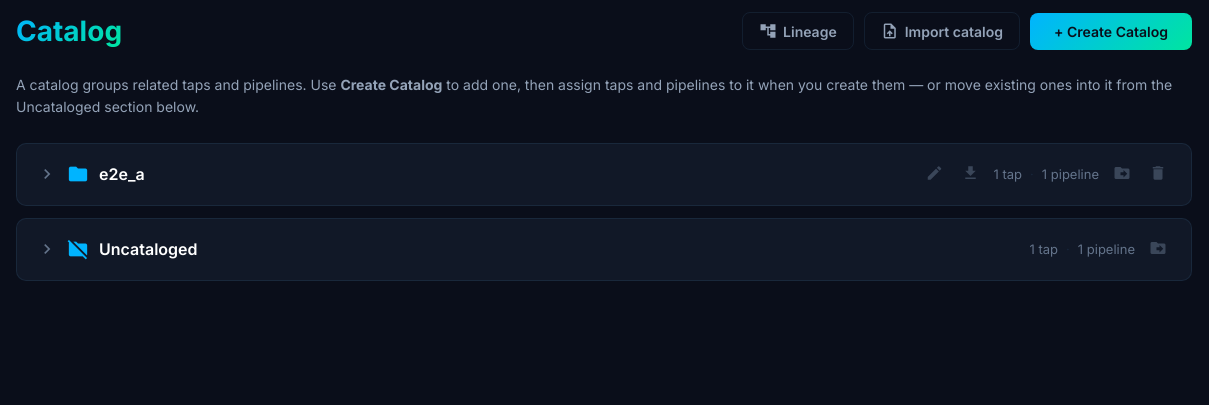
Test: DataCatalogComponent — catalog rename and delete › a 207 from rename renders each failed item with its error and reloads the list
The image size is (1209, 405).
Expected: the element with class "catalog-card" showing "e2e_a 1 tap · 1 pipeline" is shown, top-left (16, 143), bottom-right (1192, 206)
Click the button with class "rename-catalog-btn": [935, 174] box top-left (922, 160), bottom-right (948, 189)
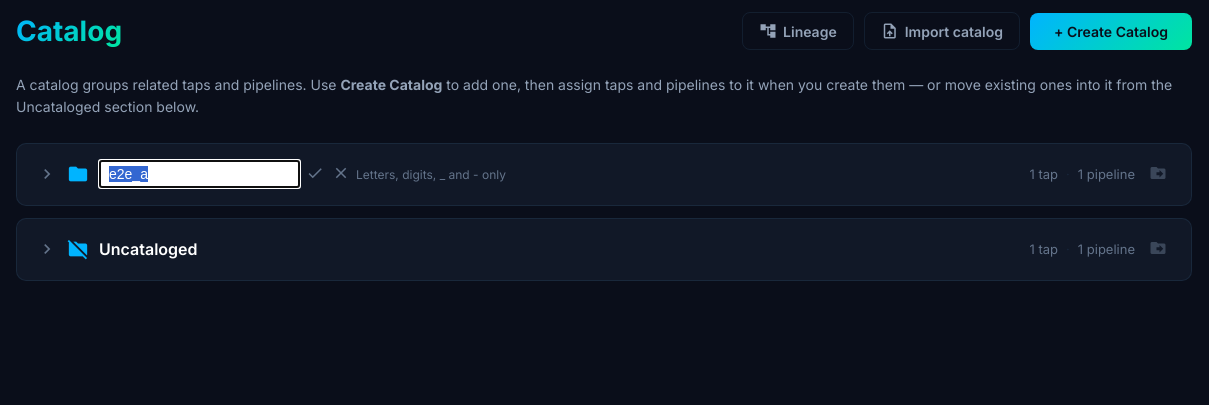
Expected: the field with class "rename-catalog-input" is shown
Replace the text in the field with class "rename-catalog-input" with "e2e_c": [200, 174] box top-left (99, 160), bottom-right (300, 188)
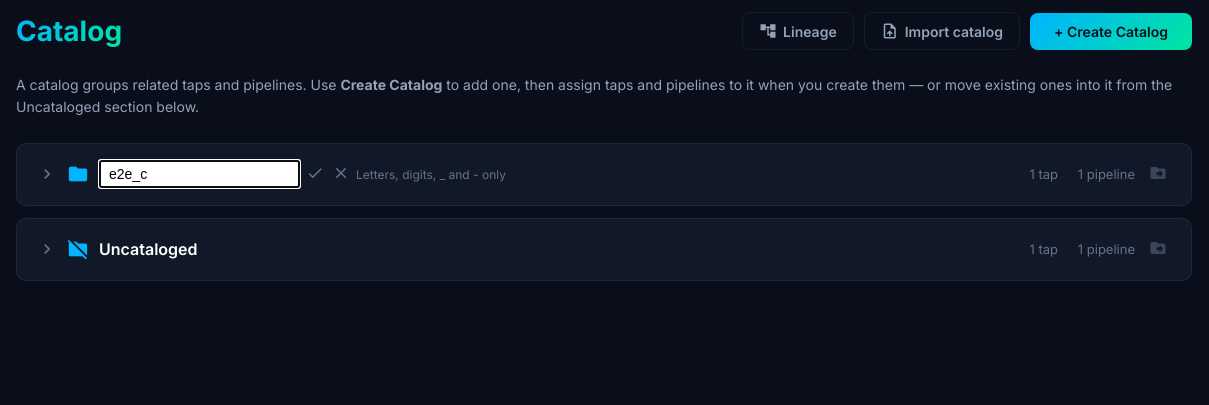
Press Enter in the field with class "rename-catalog-input", box top-left (99, 160), bottom-right (300, 188)
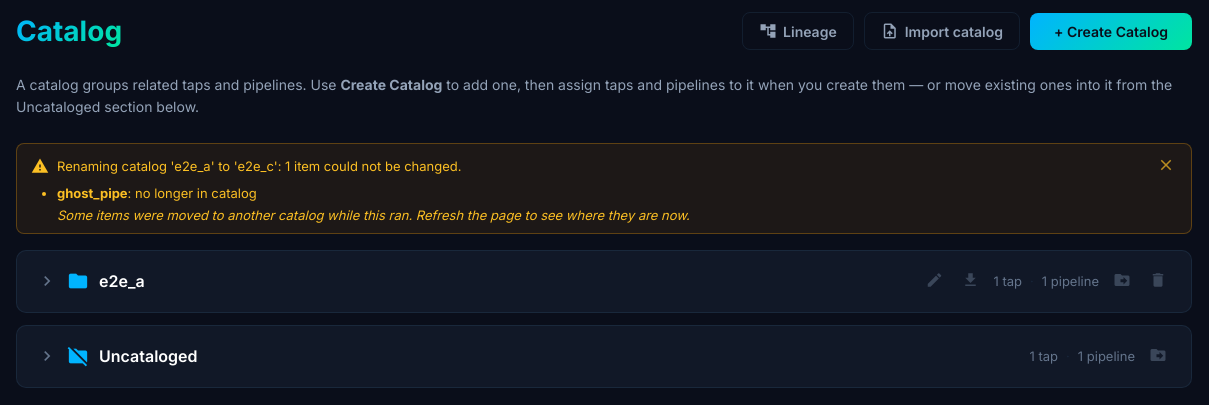
Expected: the text "ghost_pipe" is shown, top-left (57, 185), bottom-right (128, 201)
Expected: the text "no longer in catalog" is shown, top-left (128, 185), bottom-right (257, 201)
